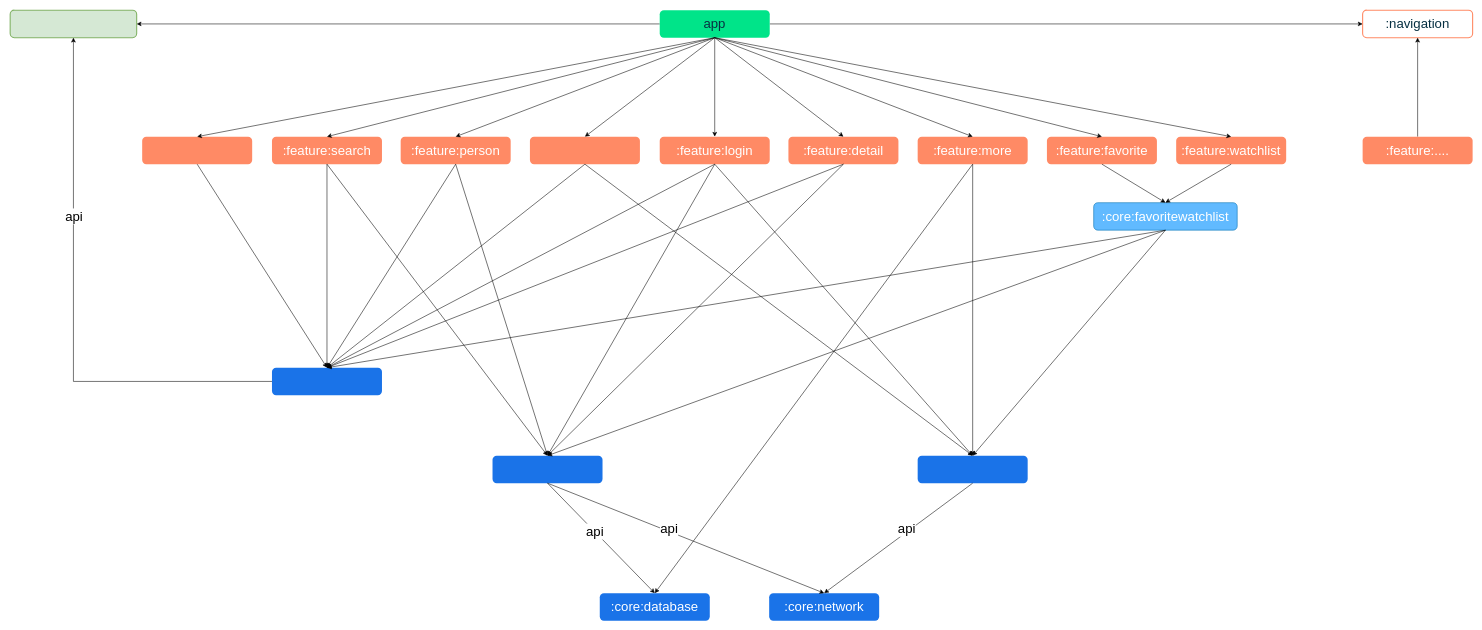
Image size: 1482x630. Some labels were removed from this diagram. The shapes that lost their labels are listed below. From the top down, each one's centre as x and y in pixels, then its label:
At (73,23): ":core:designsystem".
At (197,150): ":feature:about".
At (585,150): ":feature:home".
At (327,381): ":core:uihelper".
At (547,469): ":core:movie".
At (972,469): ":core:user".
